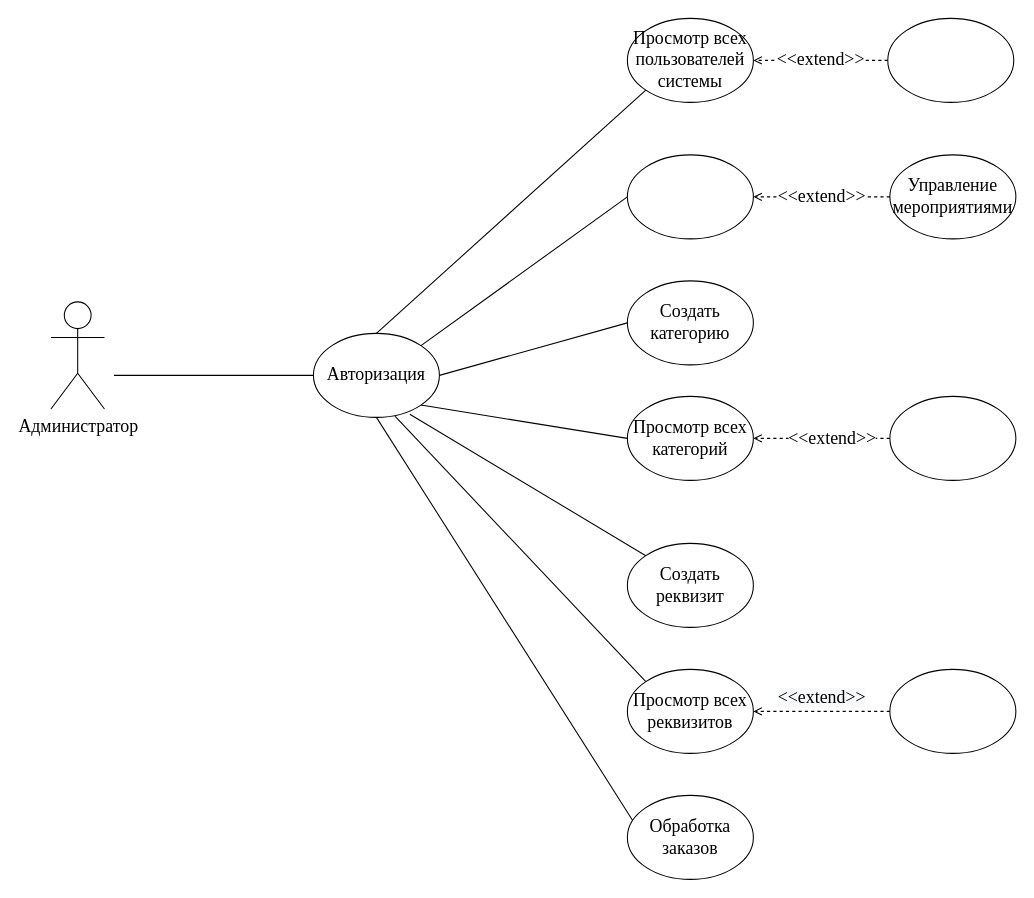
Some shapes in this 1034 by 898 pixel diagram are drawn without their labels. The shapes that lost their labels are listed below. From the top down, each one's box as (x1, y1, x2, y2) in pixels, then its label:
(887, 17, 1014, 102): Управление пользователями
(626, 154, 753, 239): Просмотр всех мероприятий
(889, 395, 1016, 480): Управление категориями
(889, 668, 1016, 753): Управление реквизитами
